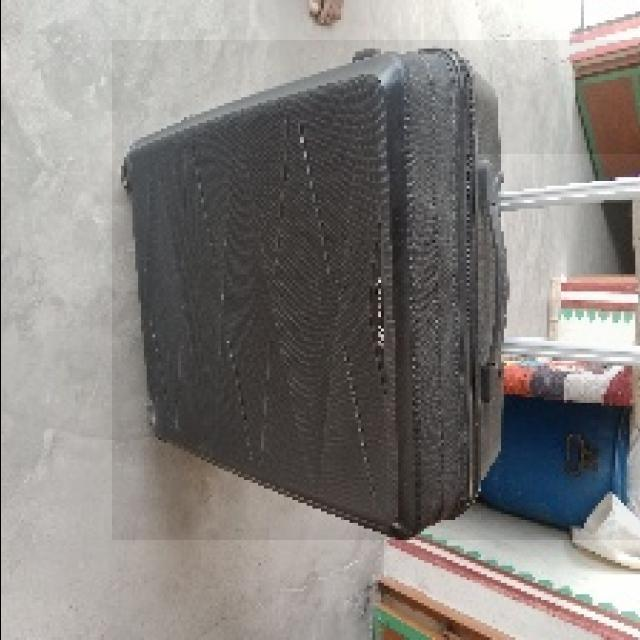Suitcase: (121, 43, 640, 539)
